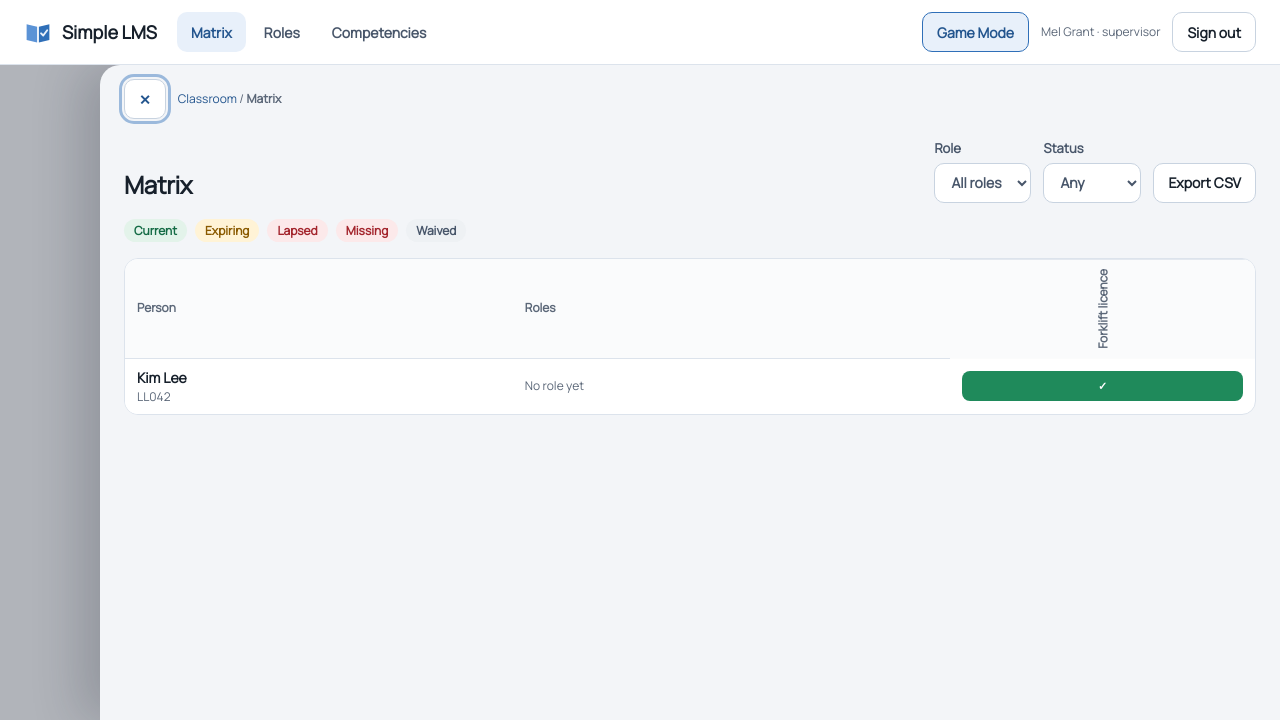
Test: printing › isn't offered to a supervisor
The image size is (1280, 720).
Click the button named "Kim Lee, Forklift licence".
click(1102, 386)  # box [962,371,1243,401]
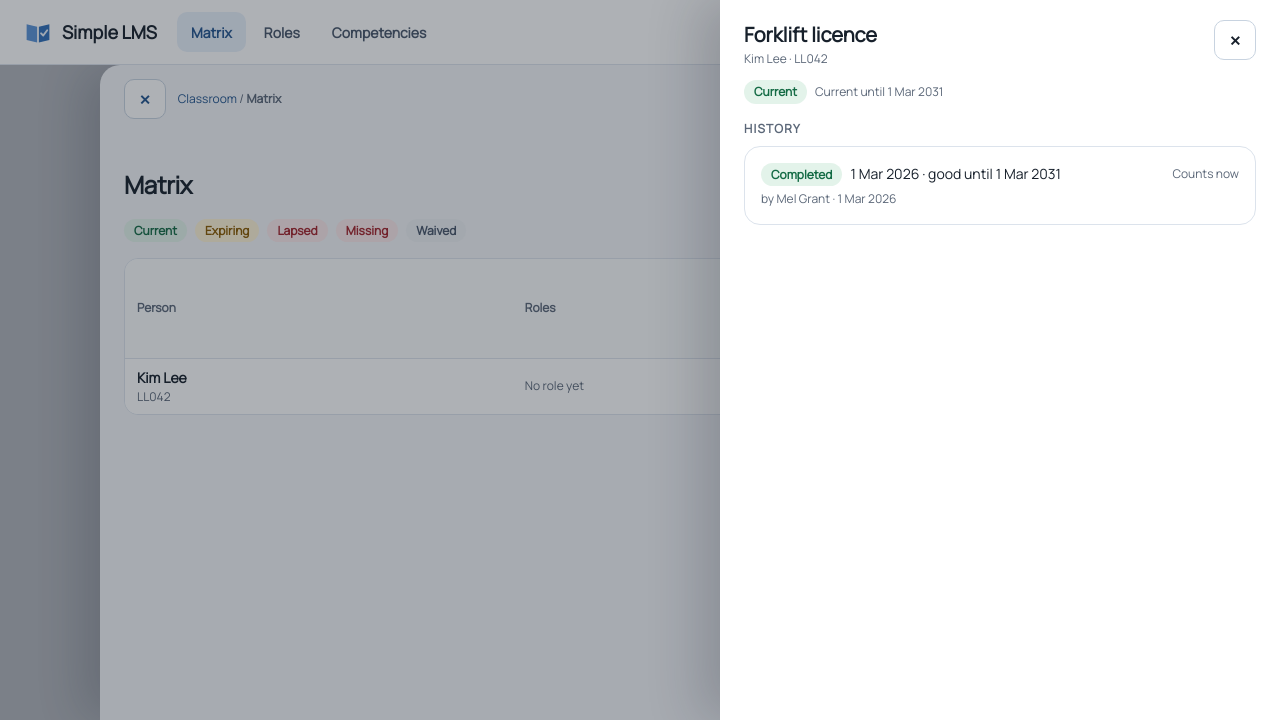
Now the text "Counts now" is shown, box [1172,165,1239,183]
